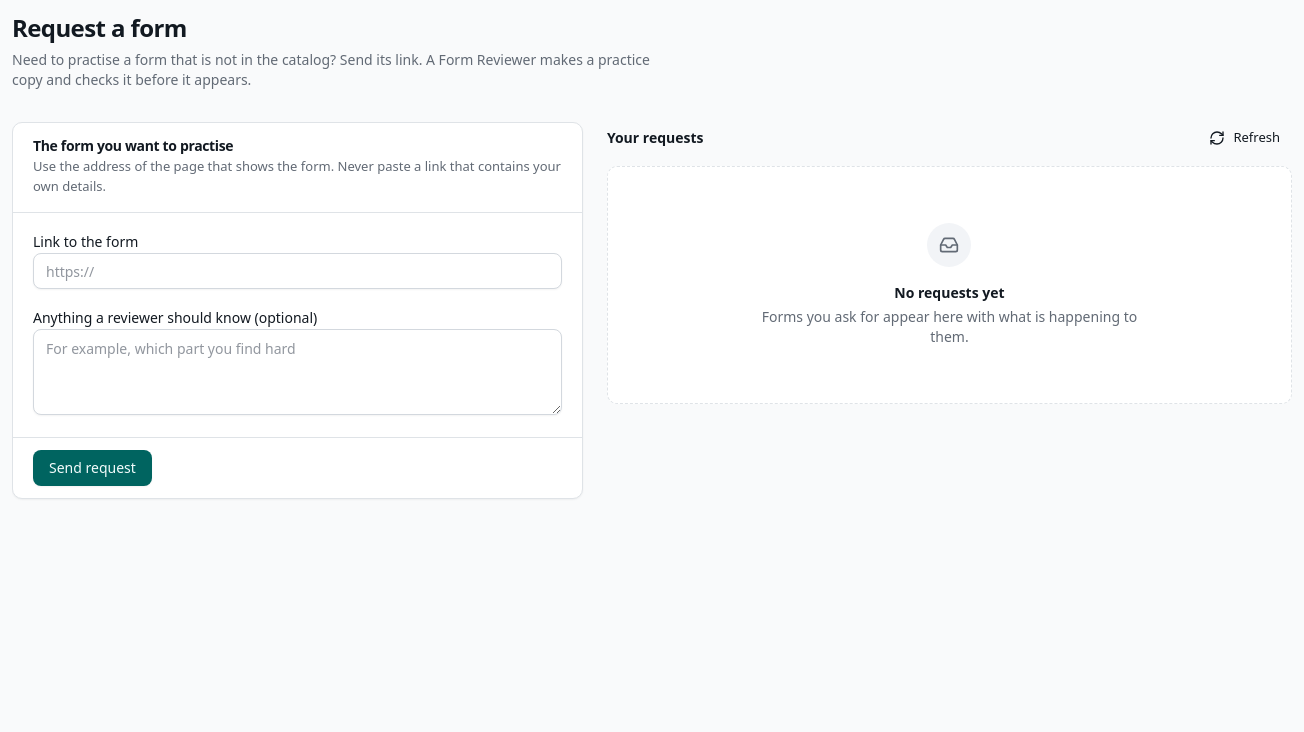
Scenario: RequestForm (learner) › says when the same form was already requested
The image size is (1304, 732).
Expected: the text "No requests yet" is shown, [894,283,1005,303]
Type "https://jobs.example.test/apply/warehouse" into the field labelled "Link to the form".
click(297, 271); type("https://jobs.example.test/apply/warehouse")  # box [33,253,562,289]
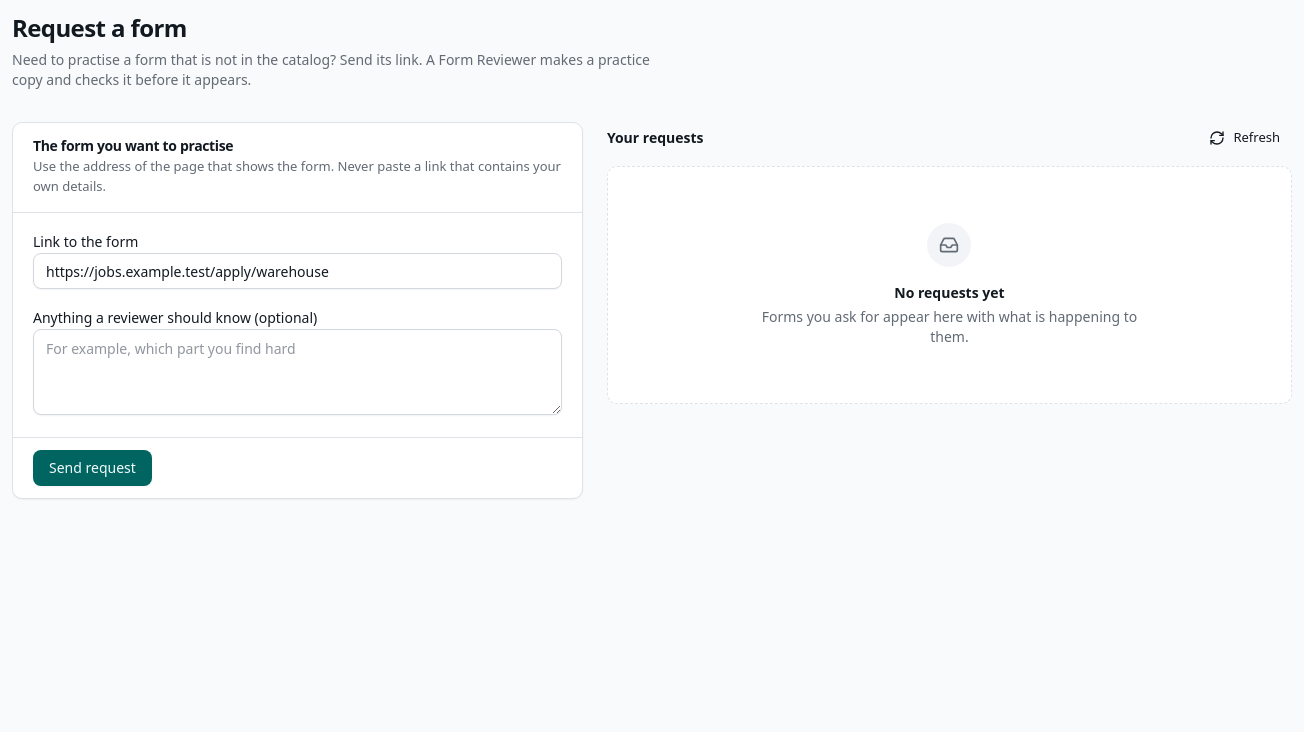
Click the button "Send request".
click(92, 468)  # box [33,450,152,486]
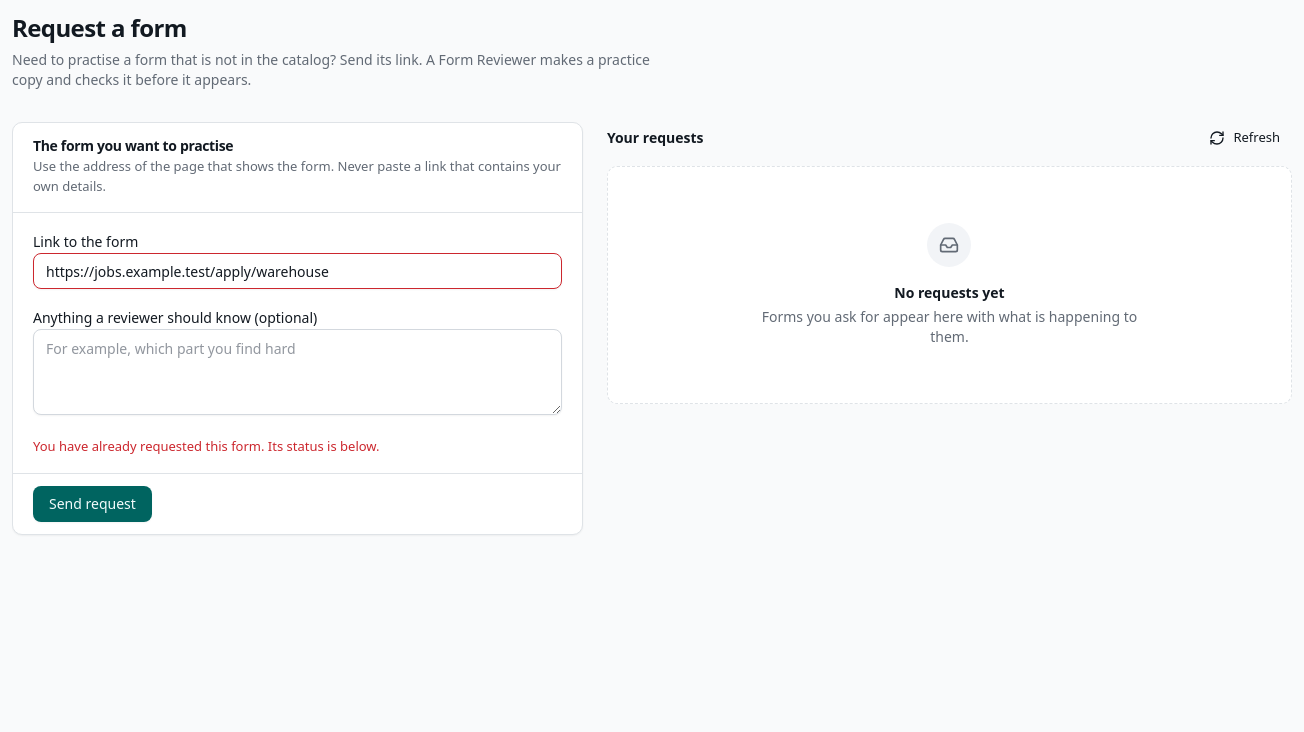
Expected: the message shows "You have already requested this form.", [33,437,380,455]
